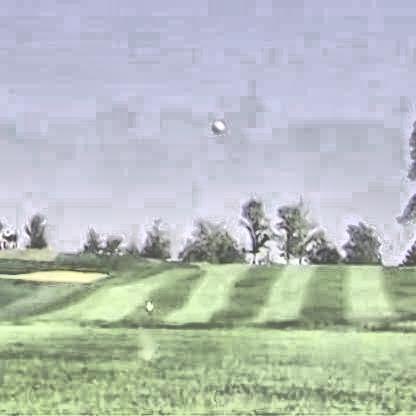golfball: (206, 115, 221, 132)
